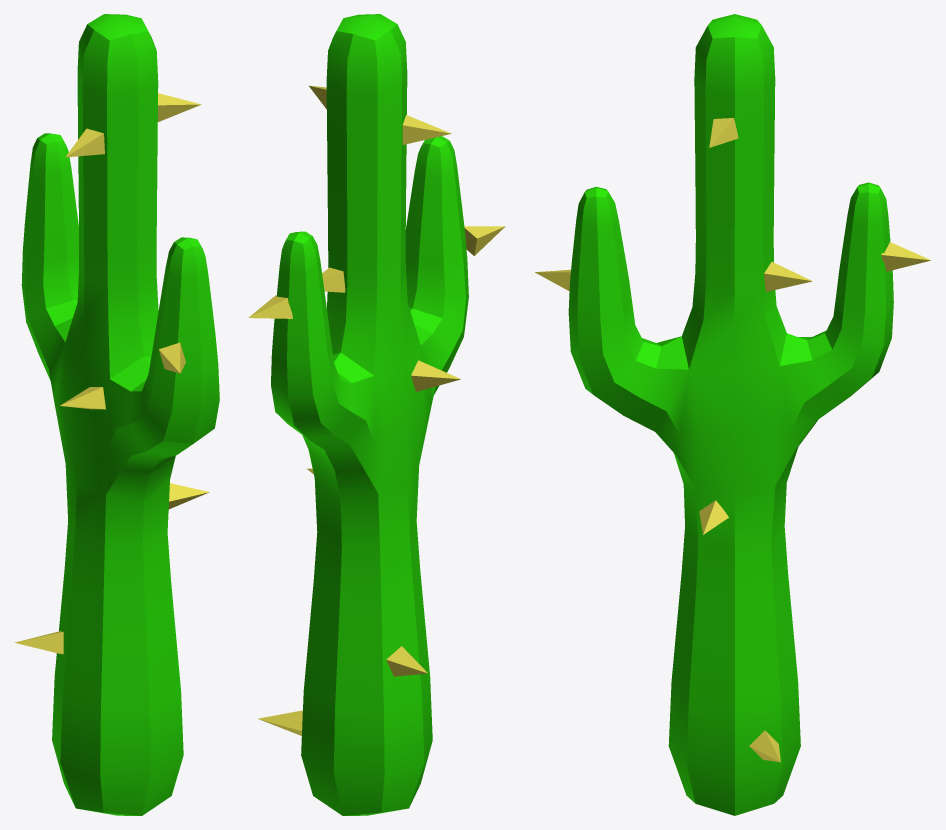
Rendered from Cactus1.fbx.
3 views of the same model, side by side, from view 1: azimuth 30°, elevation 25°; view 2: azimuth 150°, elevation 25°; view 3: azimuth 270°, elevation 25° (orthographic).
Visible parts, largest first — view 1: Cube.001; view 2: Cube.001; view 3: Cube.001.
Part boxes in pixels (x1,y1,x2,y2): Cube.001: (14,14,219,815); Cube.001: (248,14,505,815); Cube.001: (535,14,930,815).
Bounding box in the file's own units: 0.7087 × 3.21 × 1.45.
